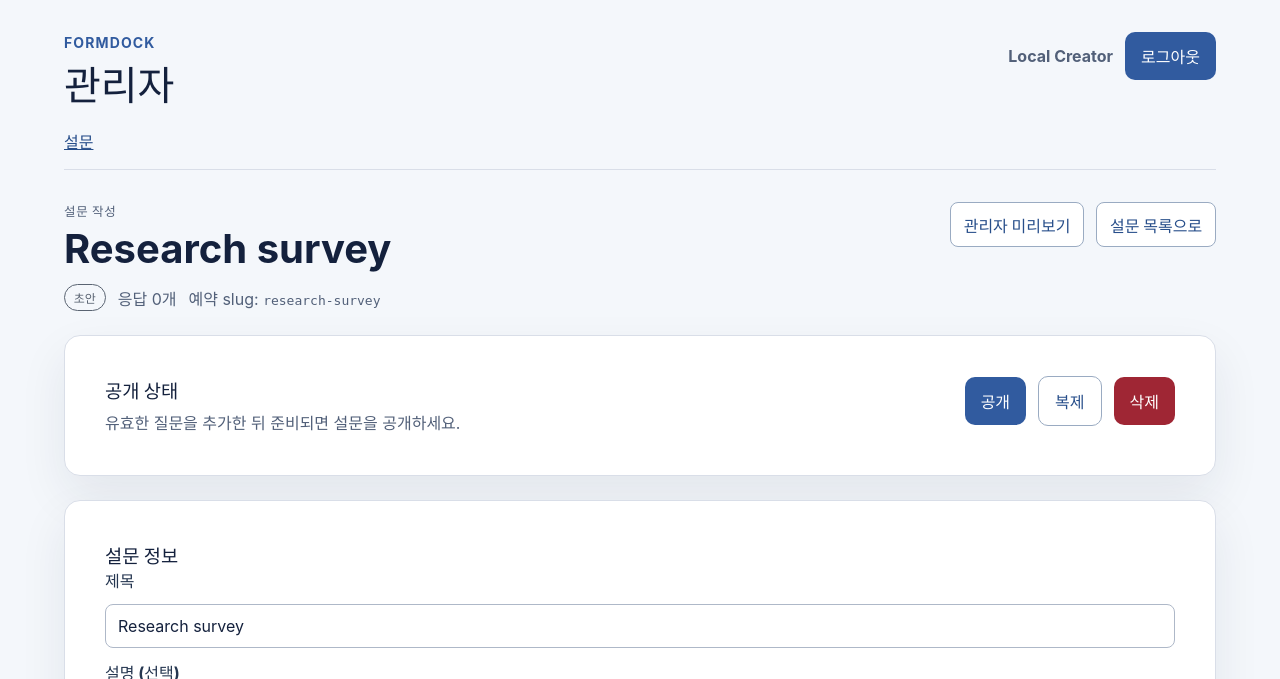
Test case: Survey Creator workflow › should_duplicateToFreshDraft_andNavigateToSeparateBuilder
Expected: the heading "Research survey" is shown, [64,226,391,272]
Click the button "복제".
click(1070, 401)  # box [1038,376,1102,426]
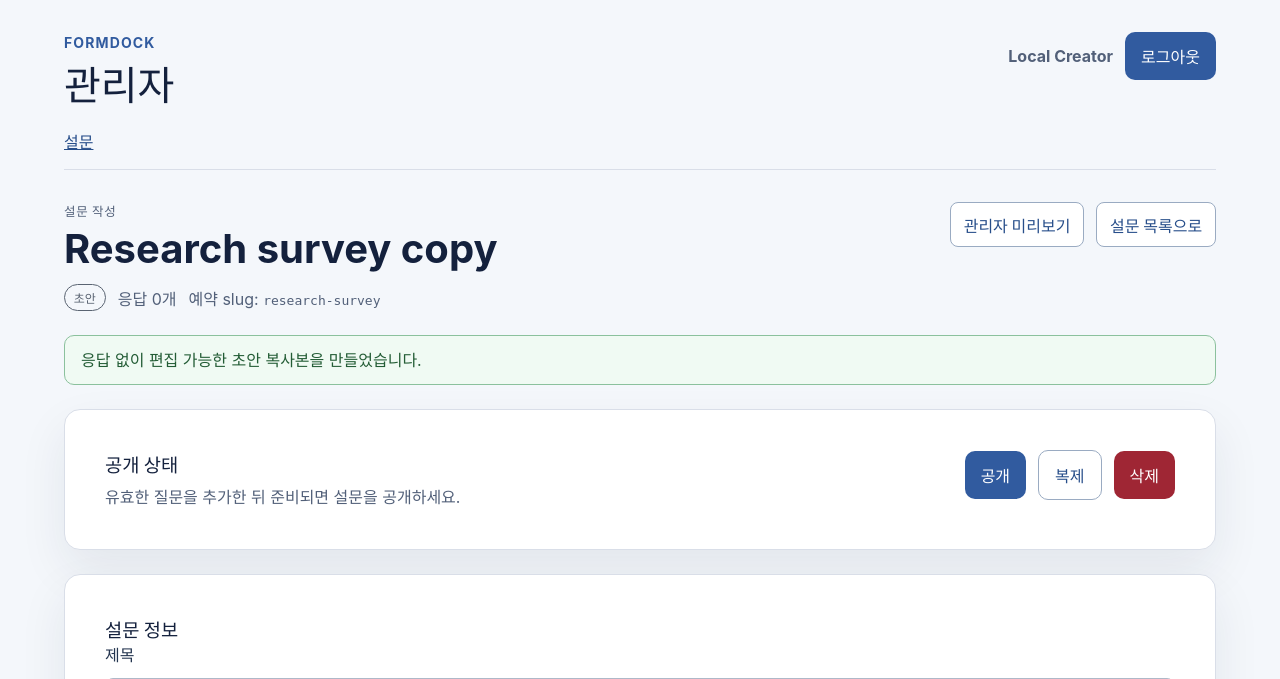
Expected: the heading "Research survey copy" is shown, [64,226,498,272]
Expected: the text "응답 없이 편집 가능한 초안 복사본을 만들었습니다." is shown, [64,335,1216,385]
